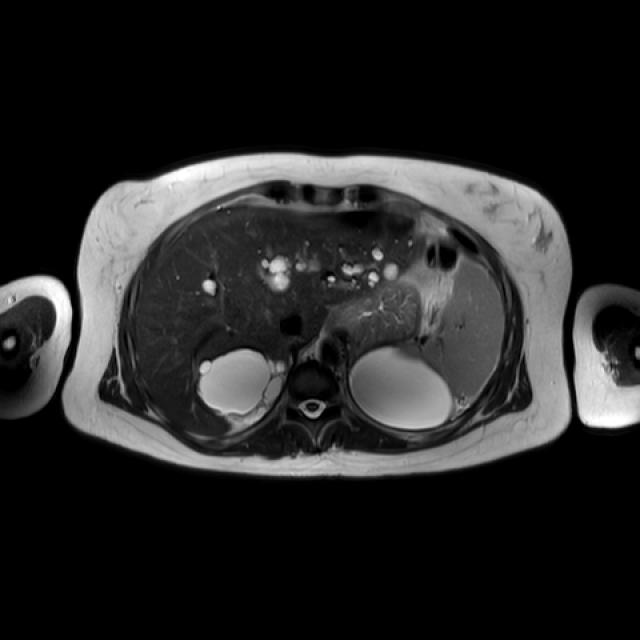sag: (199, 348, 288, 421)
sol: (349, 349, 451, 430)
